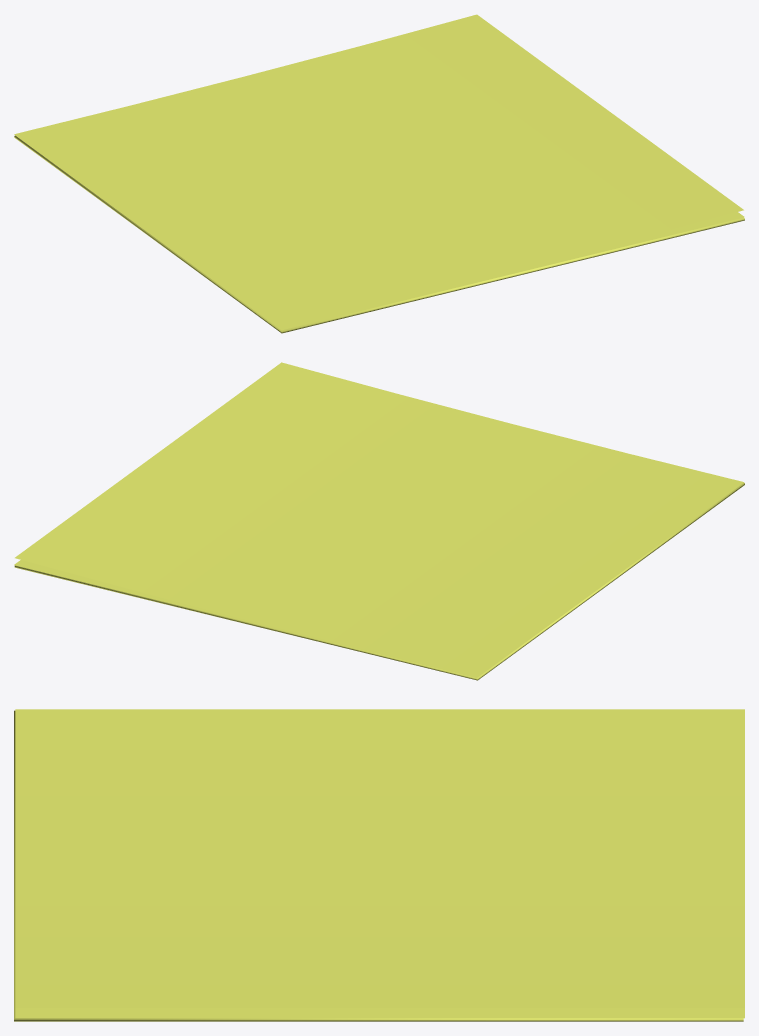
Rendered from 便條紙合併.fbx.
3 renders of one model, top to bottom at view 1: azimuth 30°, elevation 25°; view 2: azimuth 150°, elevation 25°; view 3: azimuth 270°, elevation 25°, orthographic. The views are drawn at different scales.
Visible parts, largest first — view 1: ChamferBox001; view 2: ChamferBox001; view 3: ChamferBox001.
Part boxes in pixels (x1,y1,x2,y2): ChamferBox001: (14,14,744,333); ChamferBox001: (14,362,744,680); ChamferBox001: (14,709,744,1021).
Bounding box in the file's own units: 2.95 × 0.0608 × 2.96.
